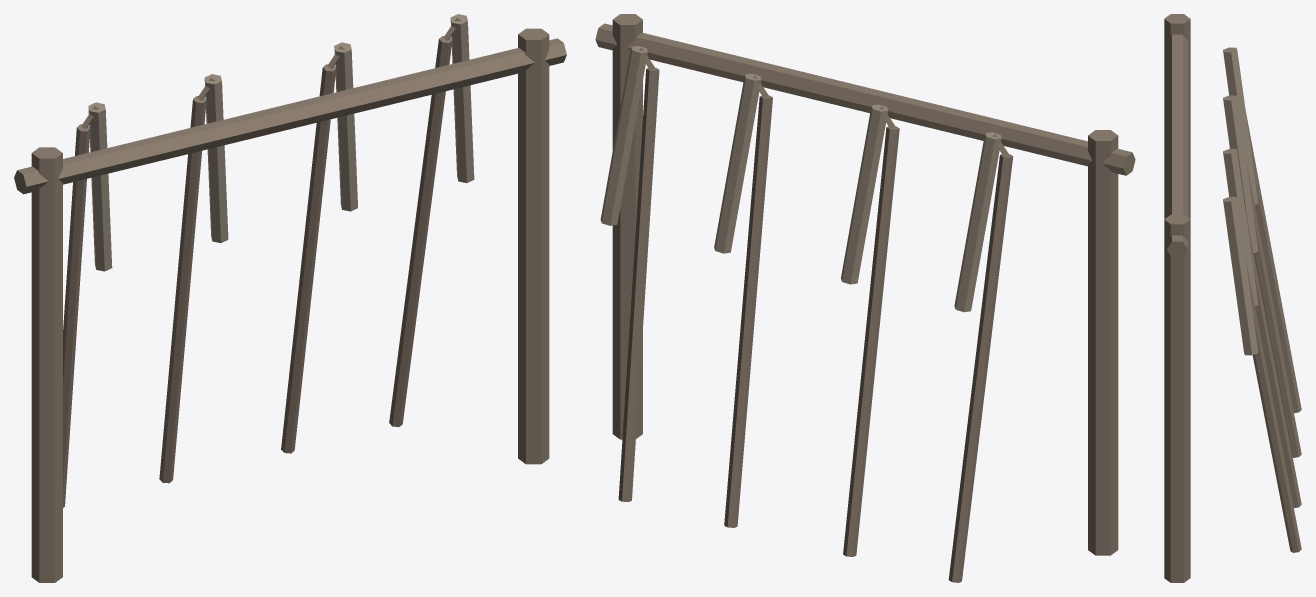
File: flail_rack.gltf
3 renders of one model, left to right at view 1: azimuth 30°, elevation 25°; view 2: azimuth 150°, elevation 25°; view 3: azimuth 270°, elevation 25°, orthographic. The views are drawn at different scales.
Parts seen in each view (by area): view 1: Body; view 2: Body; view 3: Body.
Boxes of the visible parts, left/top/right/bottom form: Body: left=14, top=14, right=566, bottom=582; Body: left=595, top=14, right=1135, bottom=582; Body: left=1164, top=14, right=1301, bottom=582.
Bounding box in the file's own units: 2 × 1.52 × 0.5217.
